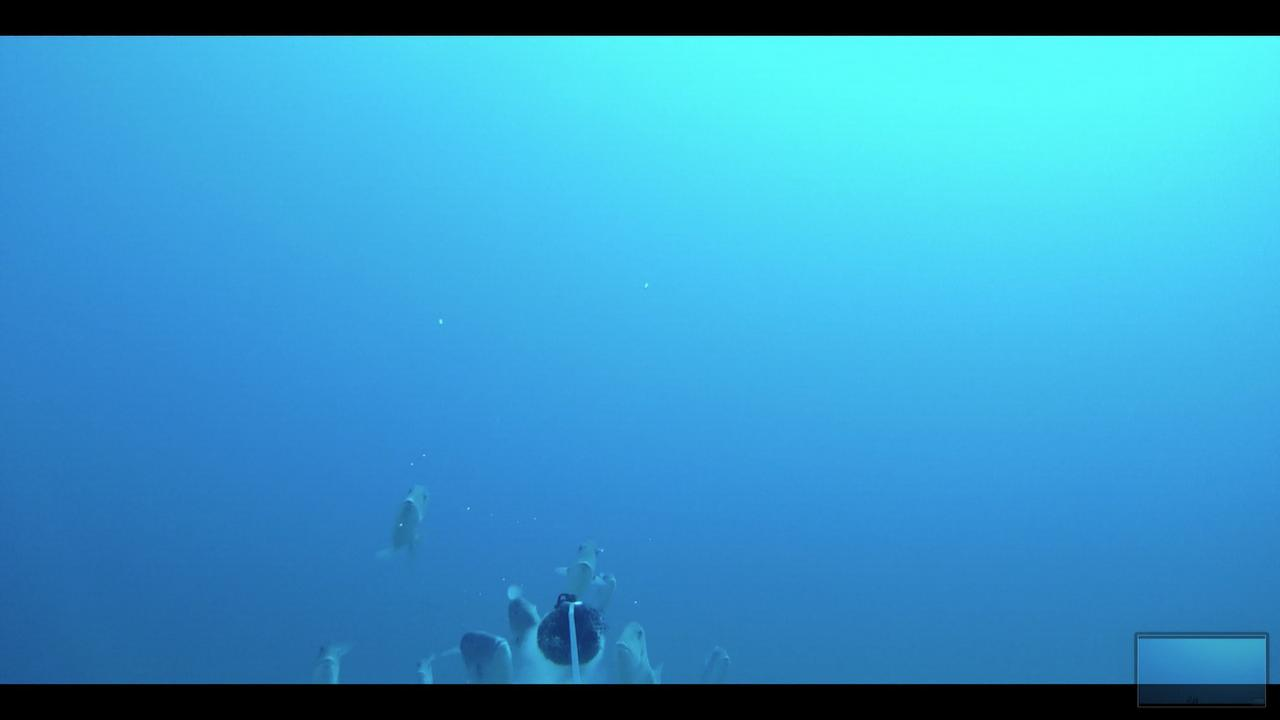balistes: (379, 471, 431, 559), (617, 609, 668, 684), (454, 624, 514, 680), (552, 529, 598, 601), (501, 578, 546, 650), (695, 640, 733, 684)
